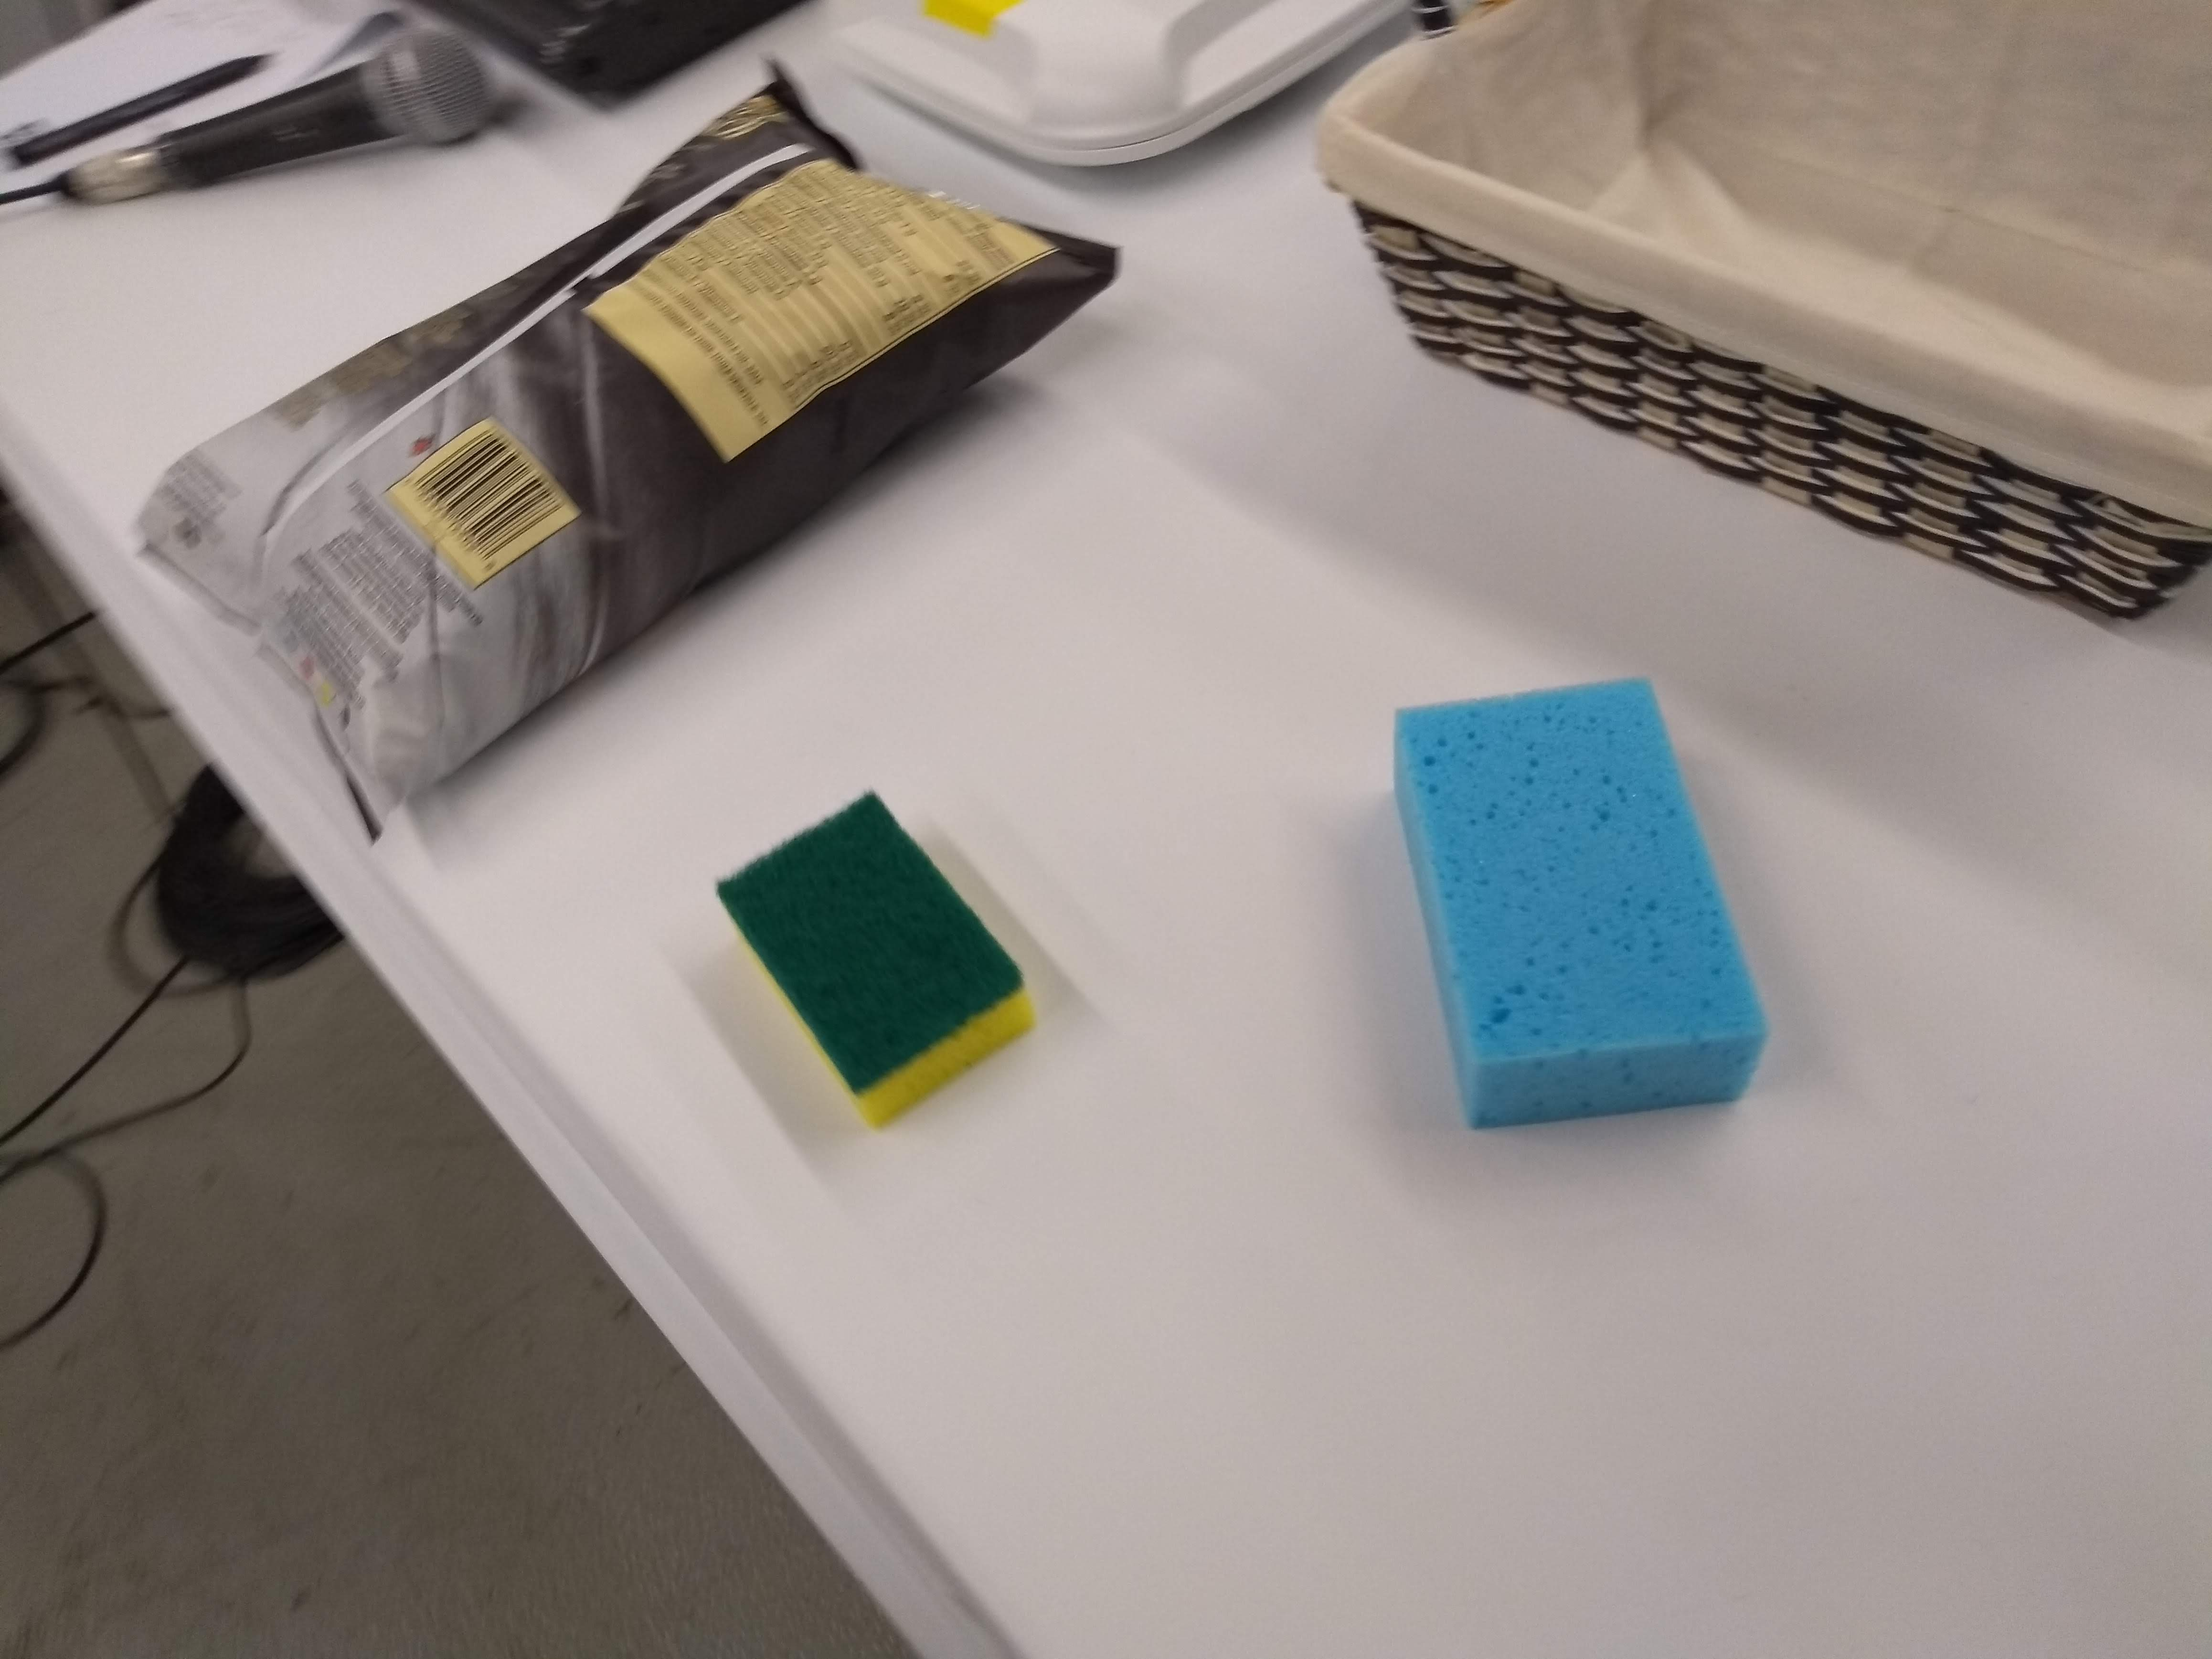potato_chips: (122, 51, 1137, 854)
scrubby: (698, 777, 1043, 1147)
sponge_opl: (1367, 666, 1782, 1143)
